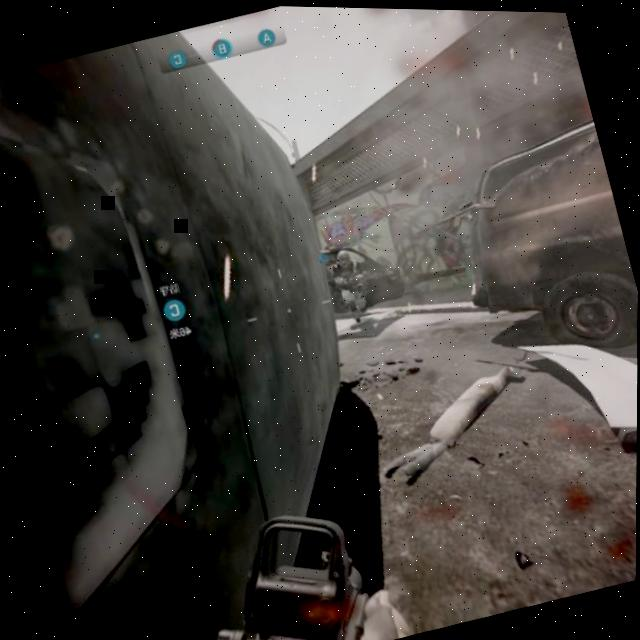MW2_body: (327, 243, 381, 326)
